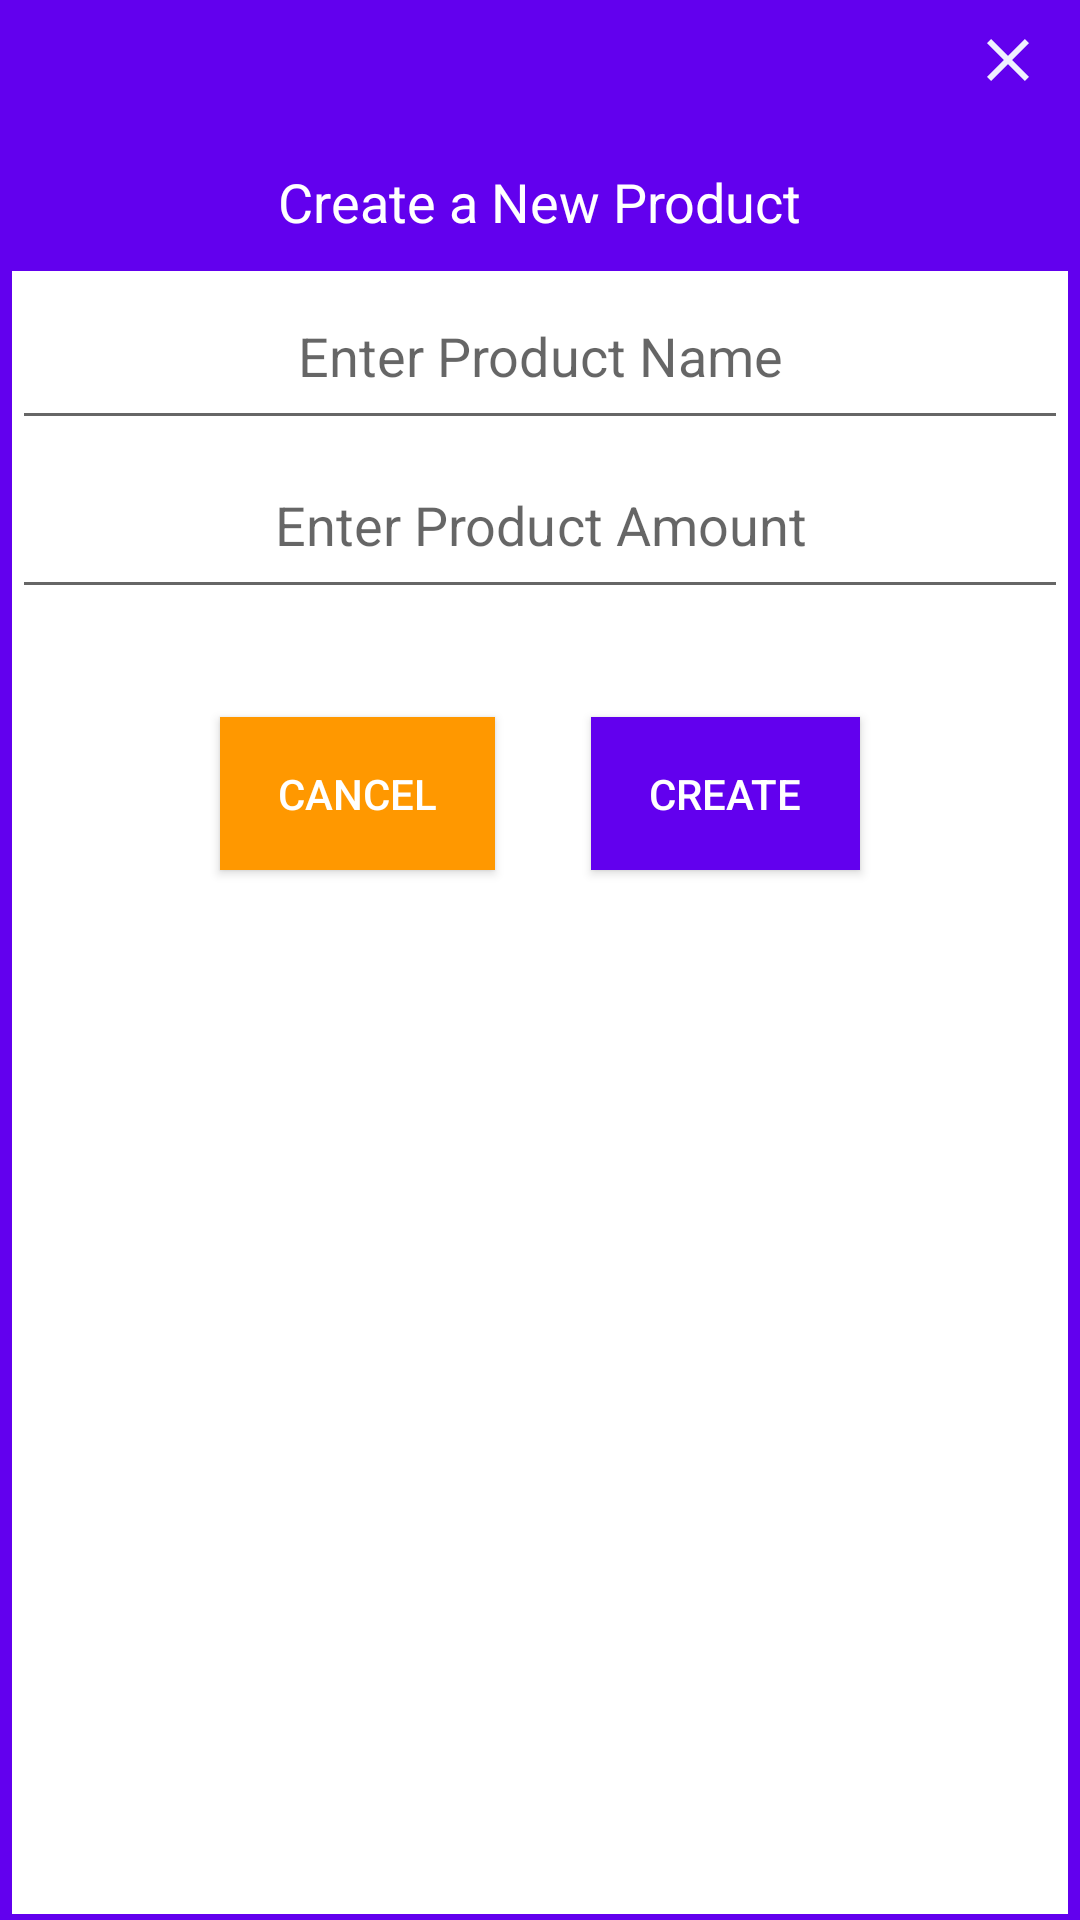

Screen size 1080px×1920px. Icon name, then its box in pixels as box=[x1, y1, x2, y2]:
close: box=[987, 39, 1029, 81]
